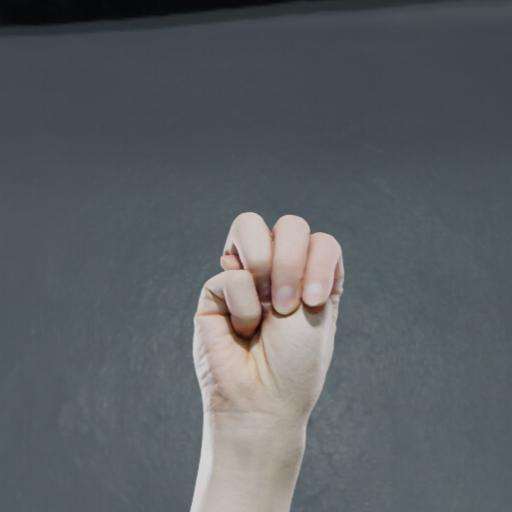M: (166, 203, 360, 431)
